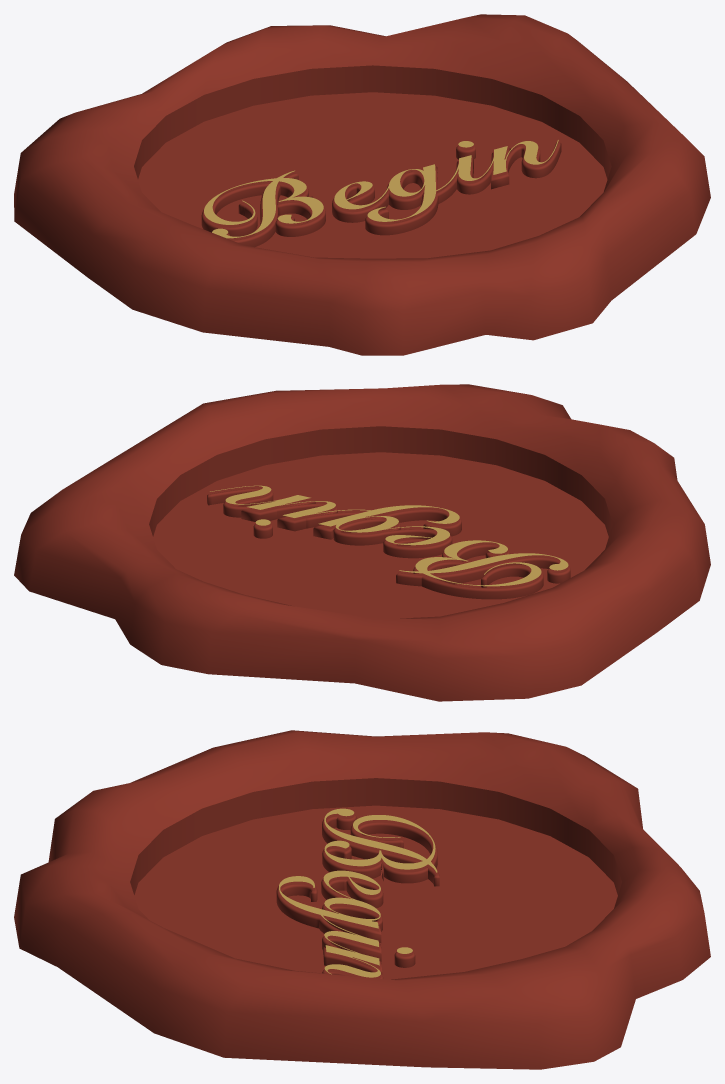
File: Seal.fbx
3 renders of one model, top to bottom at view 1: azimuth 30°, elevation 25°; view 2: azimuth 150°, elevation 25°; view 3: azimuth 270°, elevation 25°, orthographic. The views are drawn at different scales.
Parts seen in each view (by area): view 1: WaxSeal2, Text.001, Text.002; view 2: WaxSeal2, Text.001, Text.002; view 3: WaxSeal2, Text.001, Text.002.
Part boxes in pixels (box(x1,y1,x2,y2)): WaxSeal2: box(14, 14, 710, 355); Text.001: box(201, 142, 561, 247); Text.002: box(204, 140, 558, 238); WaxSeal2: box(14, 384, 710, 701); Text.001: box(207, 488, 570, 599); Text.002: box(210, 485, 568, 586); WaxSeal2: box(14, 730, 710, 1069); Text.001: box(276, 813, 439, 978); Text.002: box(279, 808, 437, 977).
Size of the model in its own units: 3.46 by 0.423 by 3.54.
